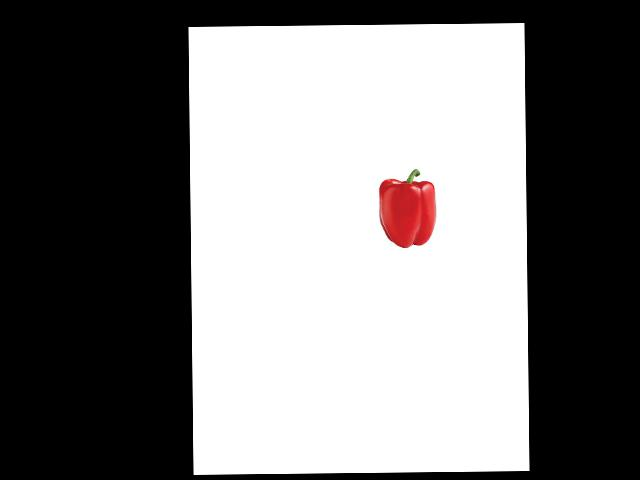bell_pepper: (375, 169, 439, 250)
